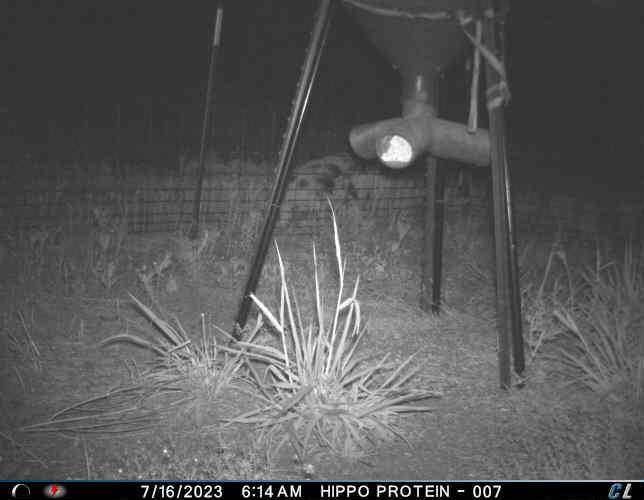Hog: (291, 152, 356, 211)
